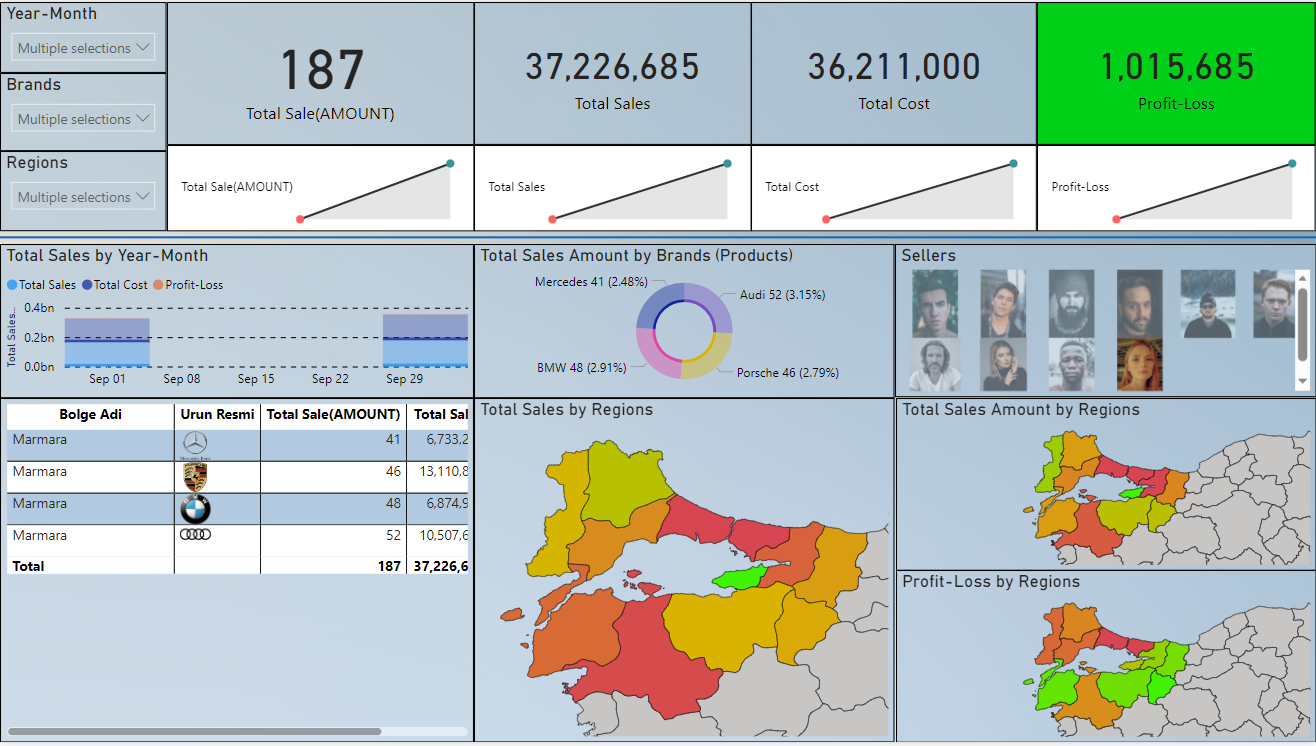

What the dashboard file says about the page in this screenshot:
{"tool":"powerbi","page":{"name":"Sales by Regions","canvas":[1280,720],"ordinal":0},"visuals":[{"type":"slicer","title":"Year-Month","fields":{"Values":["Satis Verileri.Yil-Ay"]},"box":[0,0,162.4,69.4],"z":0},{"type":"slicer","title":"Brands","fields":{"Values":["Urunler.Urun Adi"]},"box":[0,69.4,162.4,75.5],"z":1000},{"type":"card","fields":{"Values":["Measurements.Total Sale(AMOUNT)"]},"box":[162.4,0,298.5,138.7],"z":2000},{"type":"card","fields":{"Values":["Measurements.Total Sales"]},"box":[461,0,269.6,138.7],"z":3000},{"type":"card","fields":{"Values":["Measurements.Total Cost"]},"box":[730.5,0,278.3,138.7],"z":4000},{"type":"card","fields":{"Values":["Measurements.Profit-Loss"]},"box":[1008.9,0,271.3,138.7],"z":5000},{"type":"PBI_CV_25997FEB_F466_44FA_B562_AC4063283C4C","fields":{"axis":["Satis Verileri.Yil-Ay"],"measure":["Measurements.Total Sale(AMOUNT)"]},"box":[162.4,138.7,298.5,84.3],"z":6000},{"type":"PBI_CV_25997FEB_F466_44FA_B562_AC4063283C4C","fields":{"axis":["Satis Verileri.Yil-Ay"],"measure":["Measurements.Total Sales"]},"box":[461,138.7,269.6,84.3],"z":7000},{"type":"PBI_CV_25997FEB_F466_44FA_B562_AC4063283C4C","fields":{"axis":["Satis Verileri.Yil-Ay"],"measure":["Measurements.Total Cost"]},"box":[730.5,138.7,278.3,84.3],"z":8000},{"type":"PBI_CV_25997FEB_F466_44FA_B562_AC4063283C4C","fields":{"axis":["Satis Verileri.Yil-Ay"],"measure":["Measurements.Profit-Loss"]},"box":[1008.9,138.7,271.3,84.3],"z":9000},{"type":"columnChart","title":"Total Sales by Year-Month","fields":{"Category":["Satis Verileri.Yil-Ay"],"Y":["Measurements.Total Sales","Measurements.Total Cost","Measurements.Profit-Loss"]},"box":[0,235.3,461,150.1],"z":10000},{"type":"shape","box":[0,223,1280.2,12.3],"z":11000},{"type":"donutChart","title":"Total Sales Amount by Brands (Products)","fields":{"Y":["Measurements.Total Sale(AMOUNT)"],"Category":["Satis Verileri.Urun Adi"]},"box":[461,235.3,409.2,150.1],"z":12000},{"type":"tableEx","fields":{"Values":["Bolgeler.Bolge Adi","Urunler.Urun Resmi","Measurements.Total Sale(AMOUNT)","Measurements.Total Sales","Measurements.Total Cost"]},"box":[0,385.5,461,334.5],"z":13000},{"type":"shapeMap","title":"Total Sales by Regions","fields":{"Category":["Satis Verileri.Satis Merkezi"],"Value":["Measurements.Total Sales"]},"box":[461,385,409,335],"z":14000},{"type":"slicer","title":"Regions","fields":{"Values":["Bolgeler.Bolge Adi"]},"box":[0,144.9,162.4,78.1],"z":15000},{"type":"ImageGrid_FC5183B9_926C_45E0_B5F7_0CE9EAF1DA9B","title":"Sellers","fields":{"ImageURLHQ":["Saticilar.Fotograf Linki"]},"box":[870.1,235.3,410,149.3],"z":16000},{"type":"shapeMap","title":"Total Sales Amount by Regions","fields":{"Category":["Satis Verileri.Satis Merkezi"],"Value":["Measurements.Total Sale(AMOUNT)"]},"box":[871,385.5,409.2,167.7],"z":17000},{"type":"shapeMap","title":"Profit-Loss by Regions","fields":{"Category":["Satis Verileri.Satis Merkezi"],"Value":["Measurements.Profit-Loss"]},"box":[871,552.3,409.2,167.7],"z":18000}]}

Visuals, with their boxes in screenshot pixels (x1, y1, x2, y2), scaled from the page's 1280x720 canvas onto the 1316x746 screenshot:
"Year-Month" slicer: {"left": 0, "top": 0, "right": 167, "bottom": 72}
"Brands" slicer: {"left": 0, "top": 72, "right": 167, "bottom": 150}
card - Measurements.Total Sale(AMOUNT): {"left": 167, "top": 0, "right": 474, "bottom": 144}
card - Measurements.Total Sales: {"left": 474, "top": 0, "right": 751, "bottom": 144}
card - Measurements.Total Cost: {"left": 751, "top": 0, "right": 1037, "bottom": 144}
card - Measurements.Profit-Loss: {"left": 1037, "top": 0, "right": 1315, "bottom": 144}
PBI_CV_25997FEB_F466_44FA_B562_AC4063283C4C - Satis Verileri.Yil-Ay x Measurements.Total Sale(AMOUNT): {"left": 167, "top": 144, "right": 474, "bottom": 231}
PBI_CV_25997FEB_F466_44FA_B562_AC4063283C4C - Satis Verileri.Yil-Ay x Measurements.Total Sales: {"left": 474, "top": 144, "right": 751, "bottom": 231}
PBI_CV_25997FEB_F466_44FA_B562_AC4063283C4C - Satis Verileri.Yil-Ay x Measurements.Total Cost: {"left": 751, "top": 144, "right": 1037, "bottom": 231}
PBI_CV_25997FEB_F466_44FA_B562_AC4063283C4C - Satis Verileri.Yil-Ay x Measurements.Profit-Loss: {"left": 1037, "top": 144, "right": 1315, "bottom": 231}
"Total Sales by Year-Month" columnChart: {"left": 0, "top": 244, "right": 474, "bottom": 399}
shape: {"left": 0, "top": 231, "right": 1315, "bottom": 244}
"Total Sales Amount by Brands (Products)" donutChart: {"left": 474, "top": 244, "right": 895, "bottom": 399}
tableEx - Bolgeler.Bolge Adi x Urunler.Urun Resmi: {"left": 0, "top": 399, "right": 474, "bottom": 745}
"Total Sales by Regions" shapeMap: {"left": 474, "top": 399, "right": 894, "bottom": 745}
"Regions" slicer: {"left": 0, "top": 150, "right": 167, "bottom": 231}
"Sellers" ImageGrid_FC5183B9_926C_45E0_B5F7_0CE9EAF1DA9B: {"left": 895, "top": 244, "right": 1315, "bottom": 398}
"Total Sales Amount by Regions" shapeMap: {"left": 895, "top": 399, "right": 1315, "bottom": 573}
"Profit-Loss by Regions" shapeMap: {"left": 895, "top": 572, "right": 1315, "bottom": 745}
